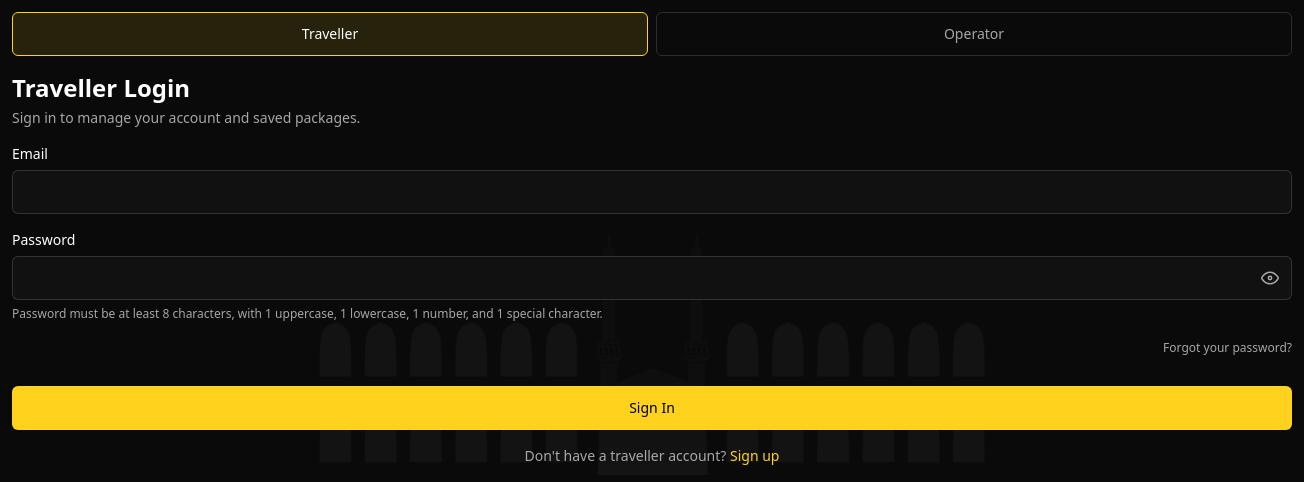
Test: LoginForm › shows forgot password view when link is clicked
Click the button with test id "login-forgot-password": (1228, 348) [1163,326,1292,370]
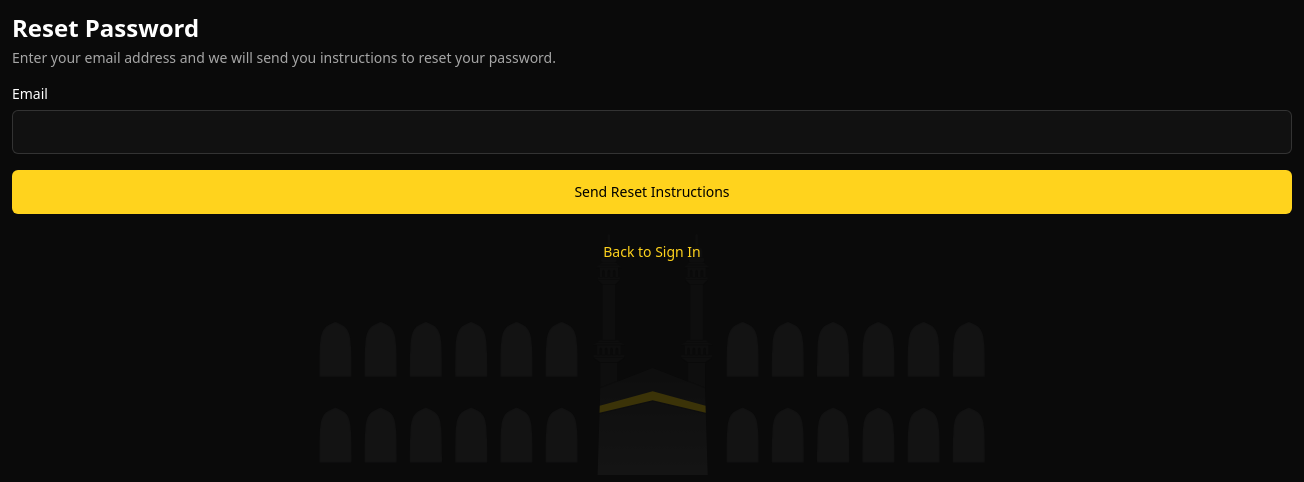
Result: the element with test id "login-forgot-view" is shown at [12,12,1292,274]
Result: the heading "Reset Password" is shown at [12,11,199,44]
Result: the field with test id "login-forgot-email" is shown at [12,110,1292,154]
